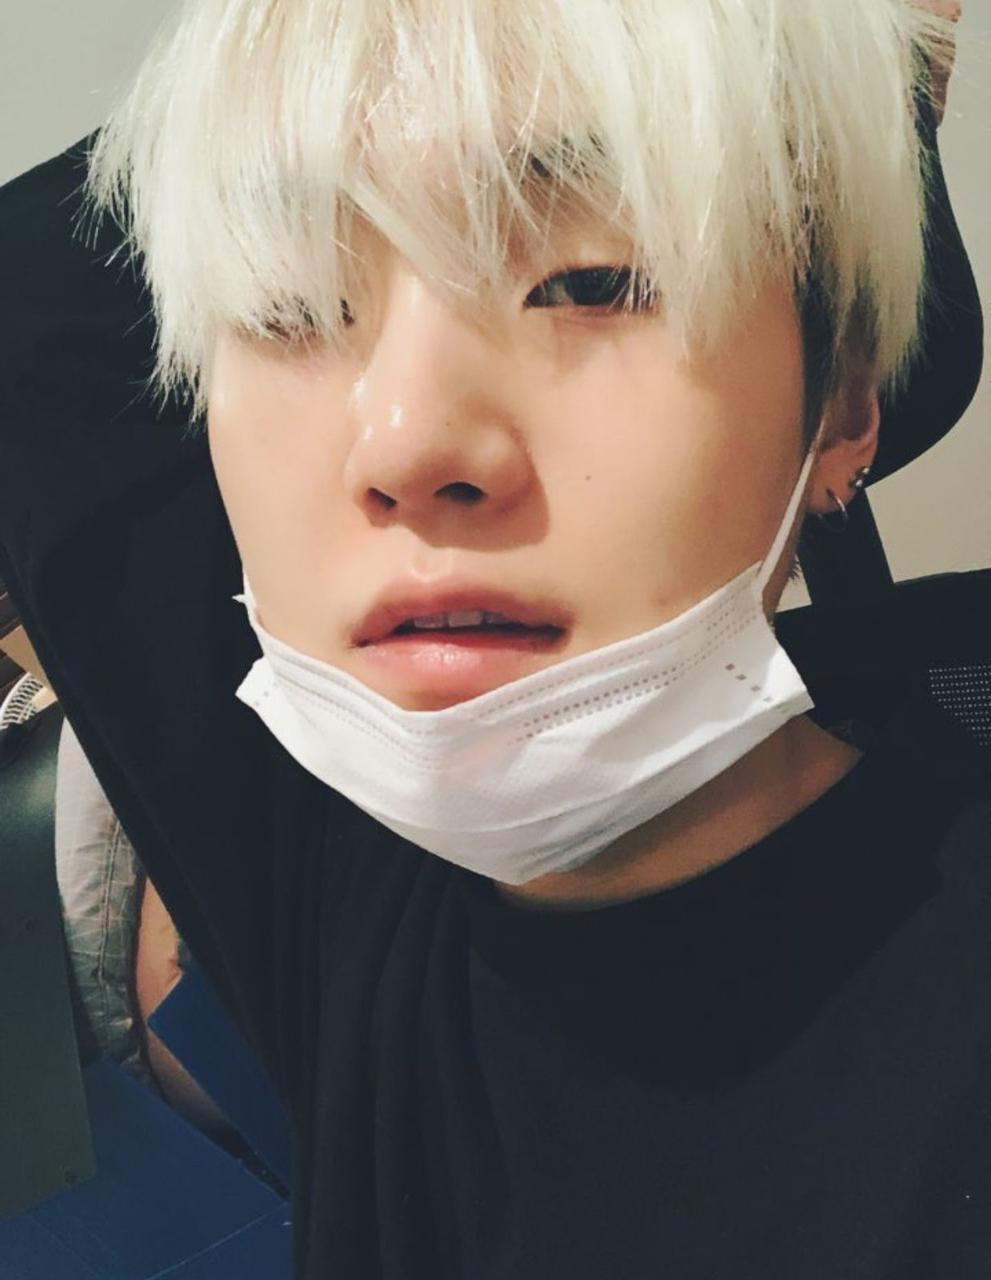mask_weared_incorrect: (226, 215, 756, 833)
